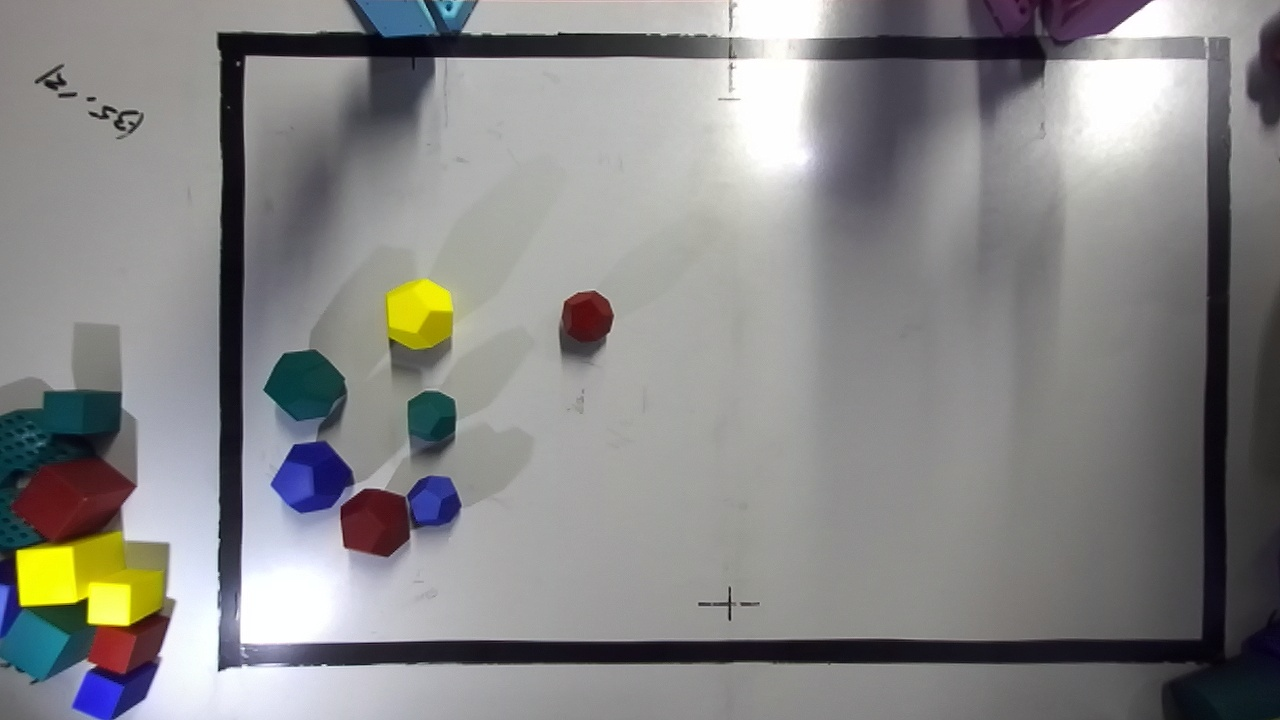dodecahedron: (263, 349, 345, 420), (271, 441, 353, 512), (340, 489, 409, 556), (386, 278, 452, 348), (561, 290, 613, 342), (407, 476, 460, 525), (407, 391, 455, 442)
